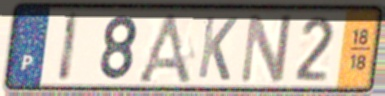2: (292, 15, 337, 84)
8: (98, 13, 139, 83)
A: (133, 10, 195, 87)
I: (55, 10, 82, 85)
K: (195, 13, 240, 84)
N: (237, 11, 296, 86)
